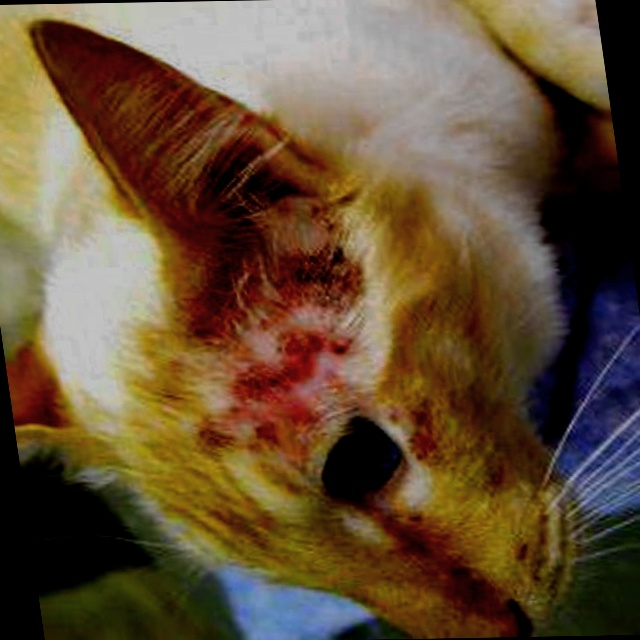ringworm: (167, 236, 387, 476)
